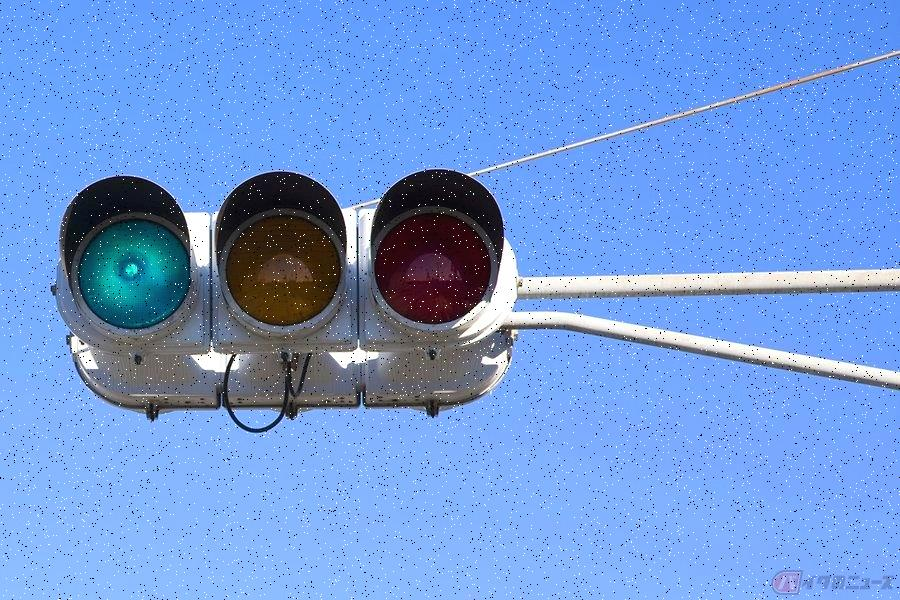cars: (53, 174, 521, 348)
